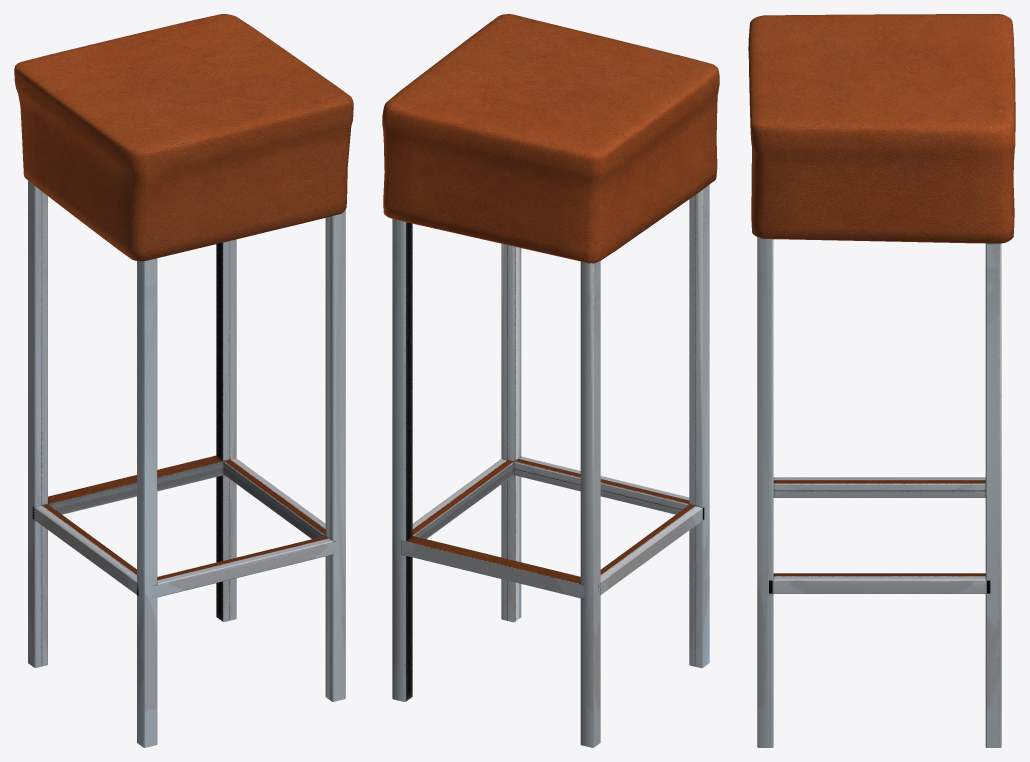
Rendered from cubo_black_chrome_plated.glb.
The picture shows the model from 3 angles, left to right: view 1: azimuth 30°, elevation 25°; view 2: azimuth 150°, elevation 25°; view 3: azimuth 270°, elevation 25°; orthographic projection. The views are drawn at different scales.
Visible parts, largest first — view 1: cubo-orange; view 2: cubo-orange; view 3: cubo-orange.
Part boxes in pixels (bbox=[...]): cubo-orange: bbox=[14, 14, 353, 747]; cubo-orange: bbox=[382, 14, 719, 747]; cubo-orange: bbox=[748, 14, 1015, 747].
Bounding box in the file's own units: 0.3207 × 0.8205 × 0.3163.
1 material, 1 textured.
